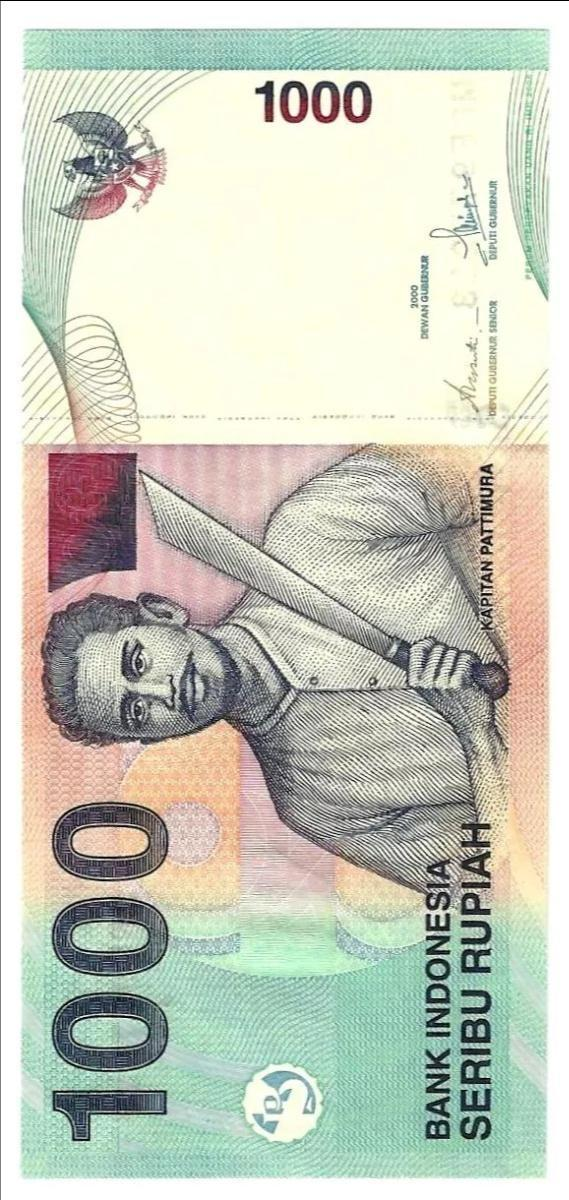1000IndonesianRupiah: (13, 20, 536, 1172)
